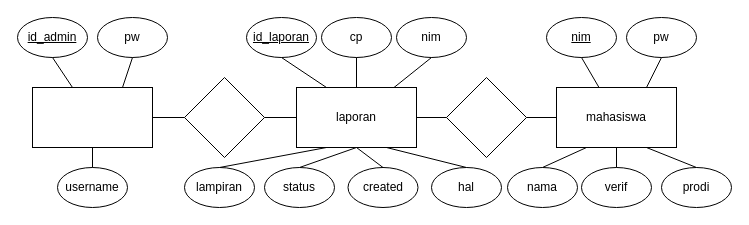
Some shapes in this 749 by 225 pixel diagram are drawn without their labels. The centre of each missing label's shape, as x and y in pixels:
"admin" goes at (x=92, y=117).
"kelola" goes at (x=224, y=117).
"kirim" goes at (x=486, y=117).
